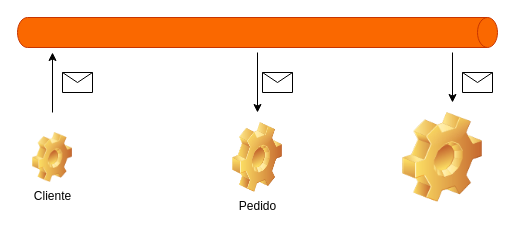
This 515x241 diagram has some shape labels left out. The shapes that lost their labels are listed below. From the top down, each one's box as (x1, y1, x2, y2) in pixels, then its label:
(16, 16, 498, 48): Broker
(402, 112, 482, 202): Produto
